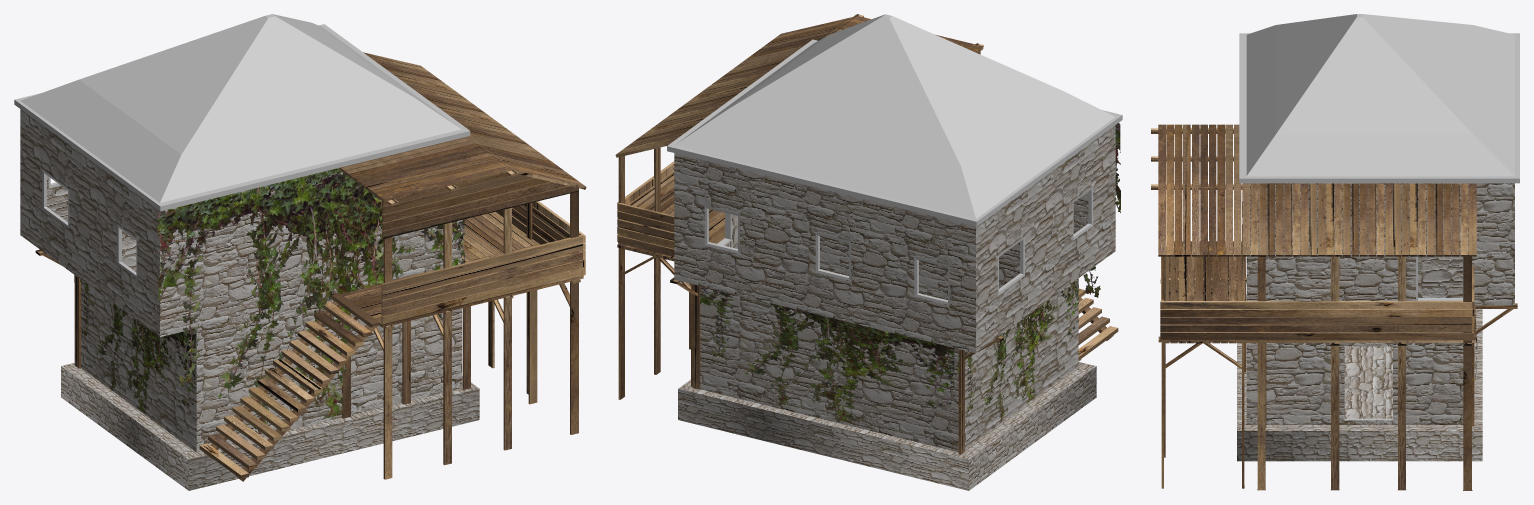
File: SM_House_3.fbx
3 views of the same model, side by side, from view 1: azimuth 30°, elevation 25°; view 2: azimuth 150°, elevation 25°; view 3: azimuth 270°, elevation 25° (orthographic). The views are drawn at different scales.
Visible parts, largest first — view 1: vines.005; view 2: vines.005; view 3: vines.005.
Boxes of the visible parts, x1=… form: vines.005: x1=14, y1=14, x2=586, y2=490; vines.005: x1=615, y1=14, x2=1122, y2=490; vines.005: x1=1151, y1=14, x2=1519, y2=490.
Bounding box in the file's own units: 1305 × 1271 × 1126.
